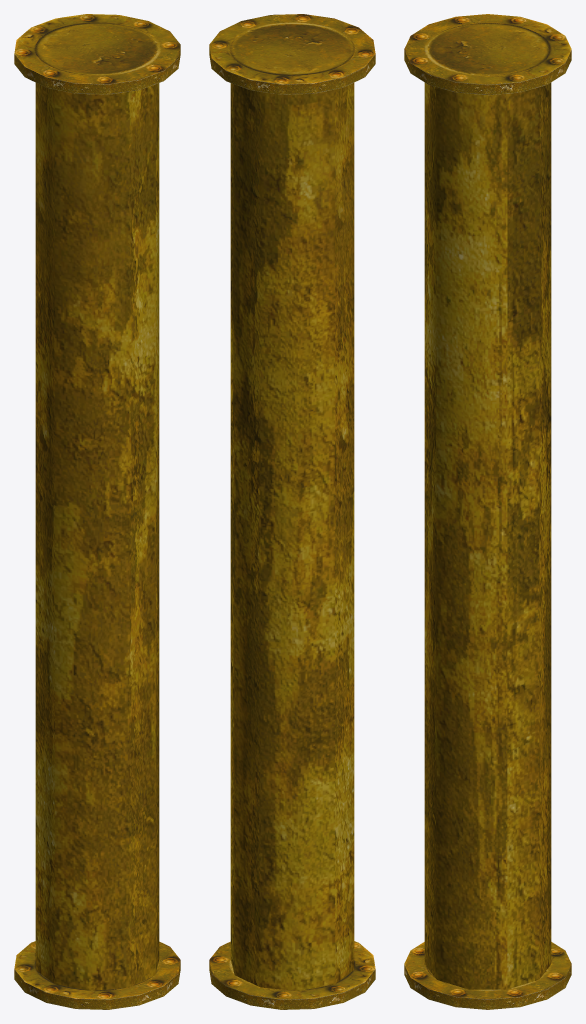
Rendered from 4m_yellow.DAE.
3 renders of one model, left to right at view 1: azimuth 30°, elevation 25°; view 2: azimuth 150°, elevation 25°; view 3: azimuth 270°, elevation 25°, orthographic.
Visible parts, largest first — view 1: Object540, Object541; view 2: Object540, Object541; view 3: Object540, Object541.
Part boxes in pixels (x1,y1,x2,y2): Object540: (35,83,159,990); Object541: (14,14,180,1009); Object540: (230,83,354,990); Object541: (209,14,375,1009); Object540: (424,82,551,989); Object541: (404,14,571,1009).
Bounding box in the file's own units: 0.6566 × 0.6566 × 4.
